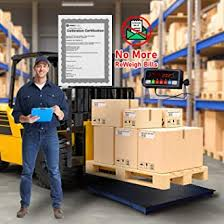Pallet Jack: (5, 48, 216, 215)
